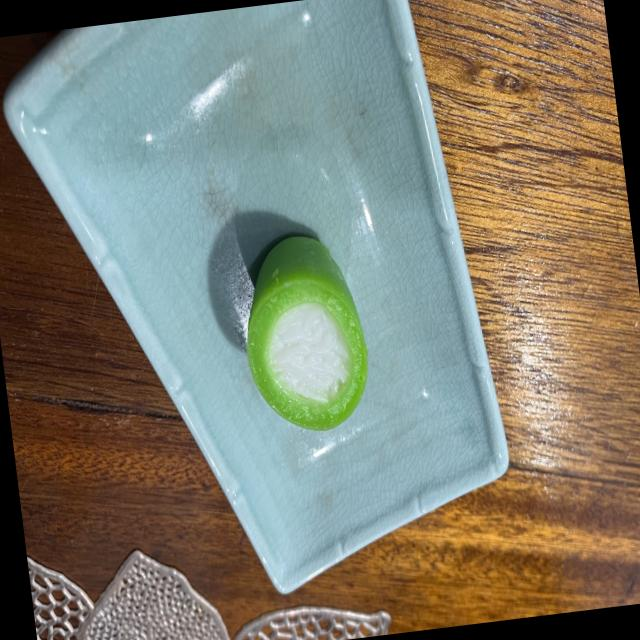nona-manis: (246, 236, 368, 430)
